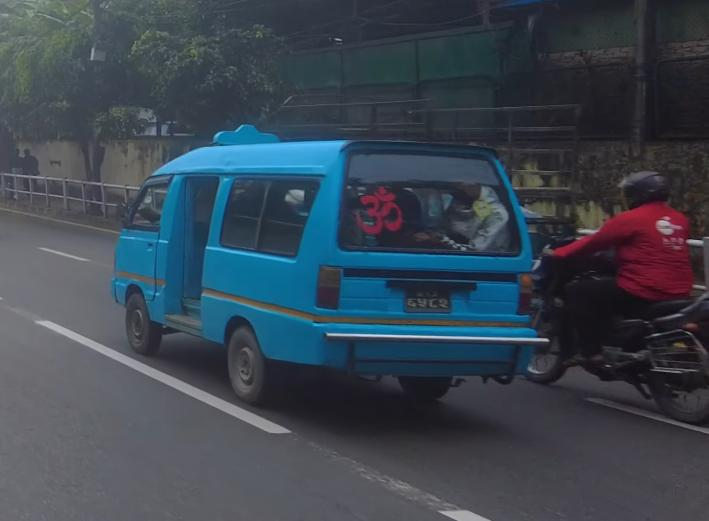van: (110, 115, 555, 416)
